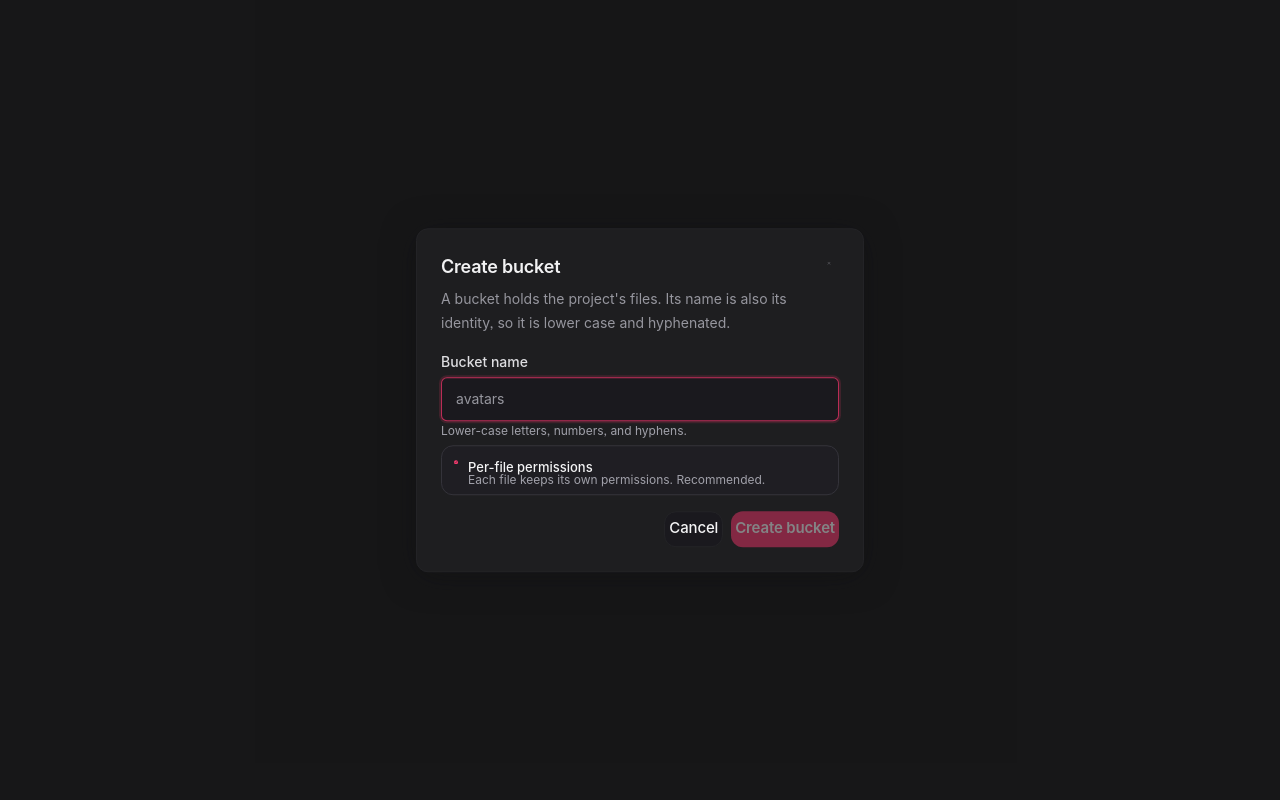
Test: CreateBucketDialog › normalizes the name to a DNS label and says so
Type "User Avatars" into the field labelled "Bucket name" at [640, 399], box [441,377,839,421]
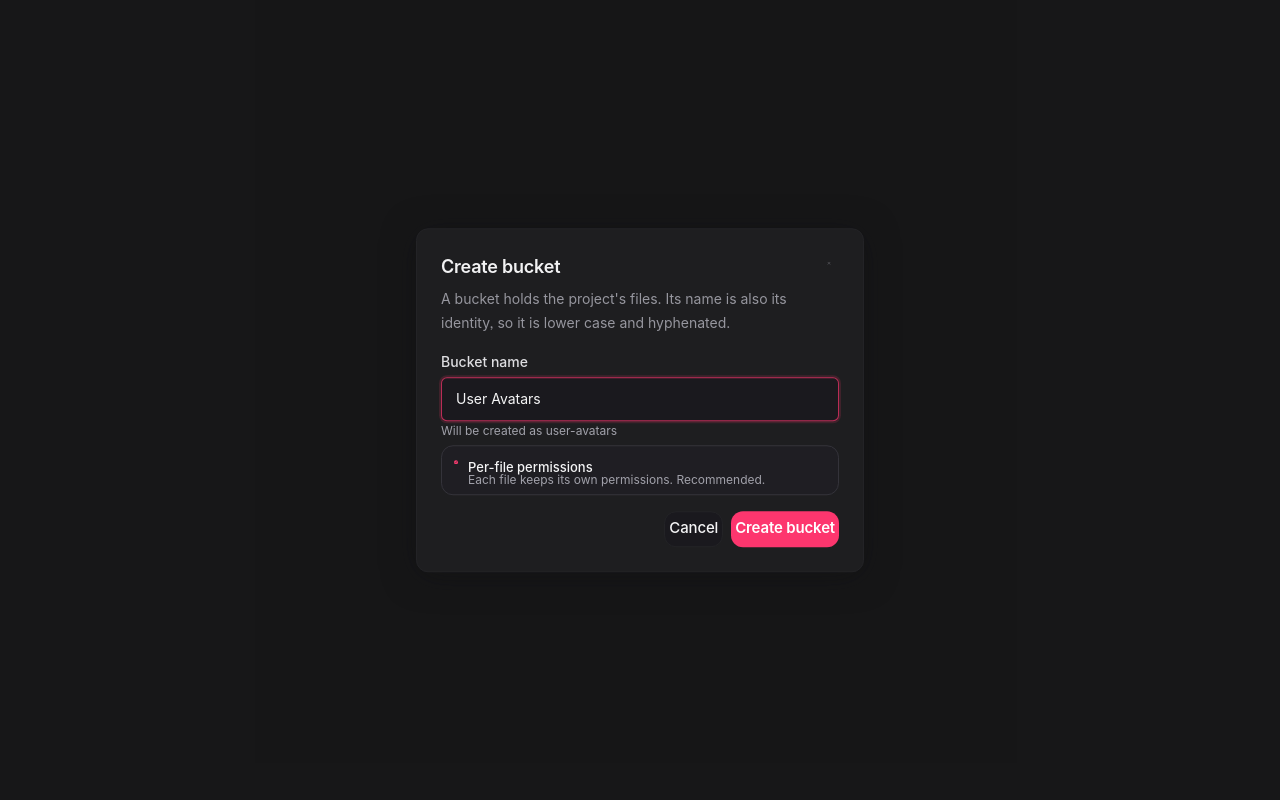
Expected: the text "Will be created as user-avatars" is shown, [441,423,617,438]
